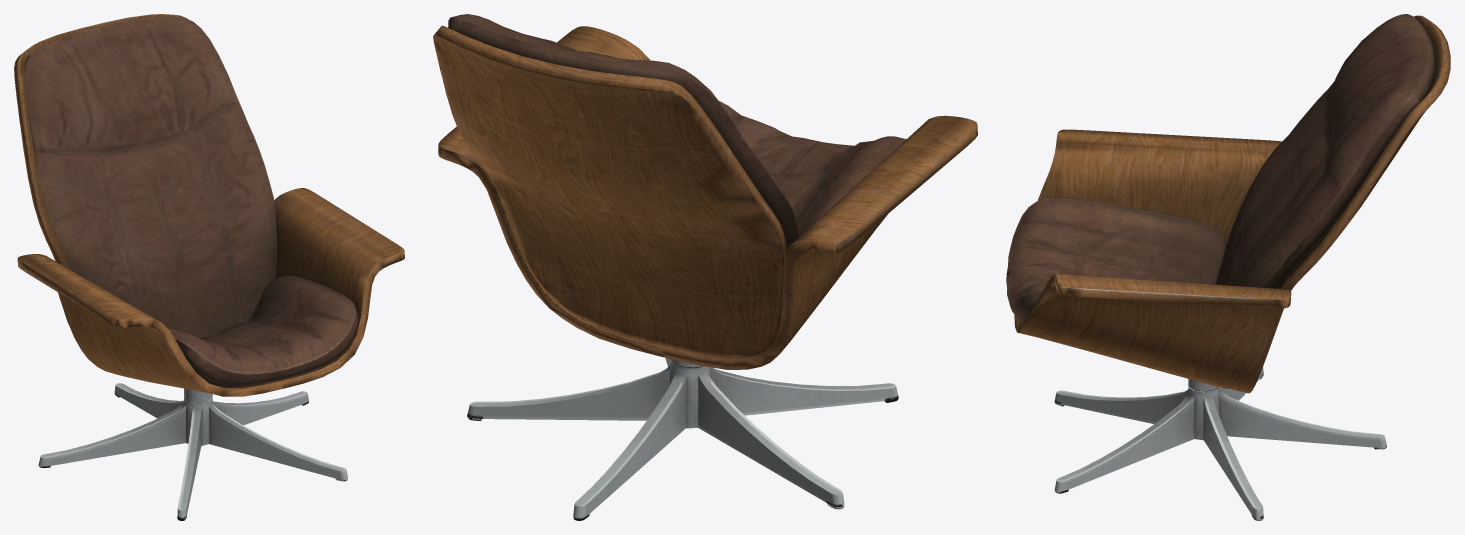
Rendered from fu_lounge_chair.fbx.
The picture shows the model from 3 angles, left to right: view 1: azimuth 30°, elevation 25°; view 2: azimuth 150°, elevation 25°; view 3: azimuth 270°, elevation 25°; orthographic projection. The views are drawn at different scales.
Parts seen in each view (by area): view 1: fu_lounge_chair_LOD0; view 2: fu_lounge_chair_LOD0; view 3: fu_lounge_chair_LOD0.
Part boxes in pixels (left/top/right/bottom): fu_lounge_chair_LOD0: left=14, top=14, right=404, bottom=520; fu_lounge_chair_LOD0: left=433, top=14, right=977, bottom=520; fu_lounge_chair_LOD0: left=1006, top=14, right=1450, bottom=520.
Size of what is drawn, in the model's own units: 1.01 by 1.17 by 1.19.
Materials: 1 (1 with a texture image).
